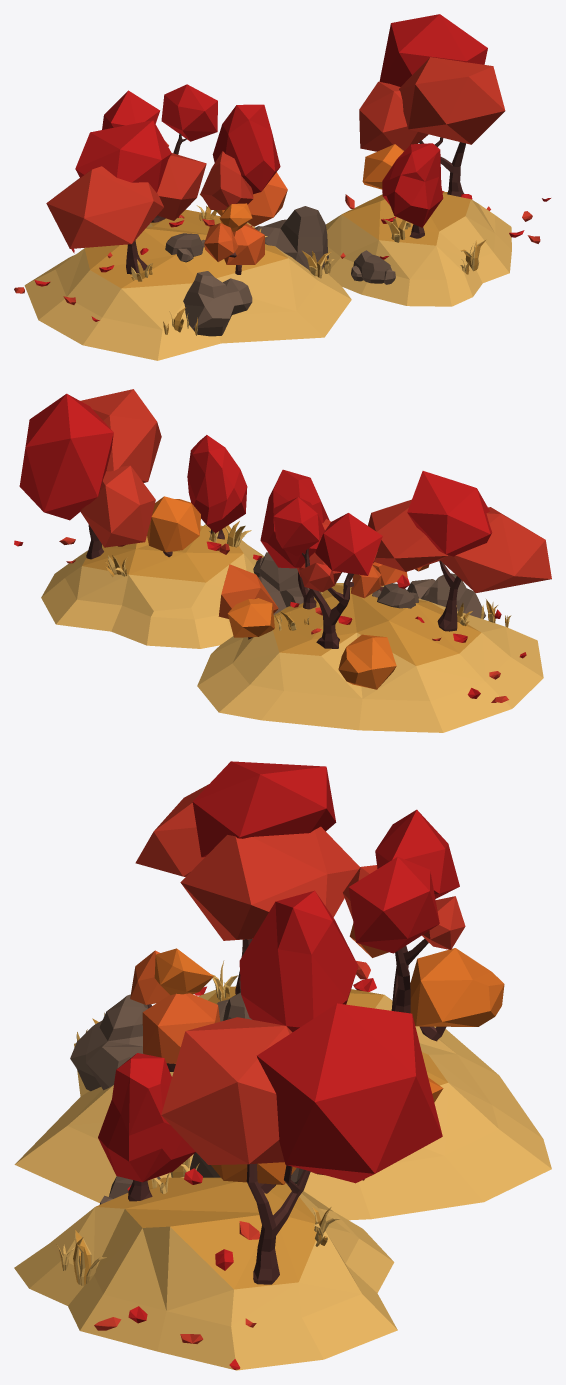
File: simple-autumn-tree.fbx
3 renders of one model, top to bottom at view 1: azimuth 30°, elevation 25°; view 2: azimuth 150°, elevation 25°; view 3: azimuth 270°, elevation 25°, orthographic. The views are drawn at different scales.
Parts seen in each view (by area): view 1: sample_island_autumn_tree_set_mat_0; view 2: sample_island_autumn_tree_set_mat_0; view 3: sample_island_autumn_tree_set_mat_0.
Part boxes in pixels (x1,y1,x2,y2): sample_island_autumn_tree_set_mat_0: (14, 14, 550, 360); sample_island_autumn_tree_set_mat_0: (14, 389, 551, 732); sample_island_autumn_tree_set_mat_0: (14, 761, 551, 1370).
Size of the model in its own units: 4468 by 1716 by 2507.
